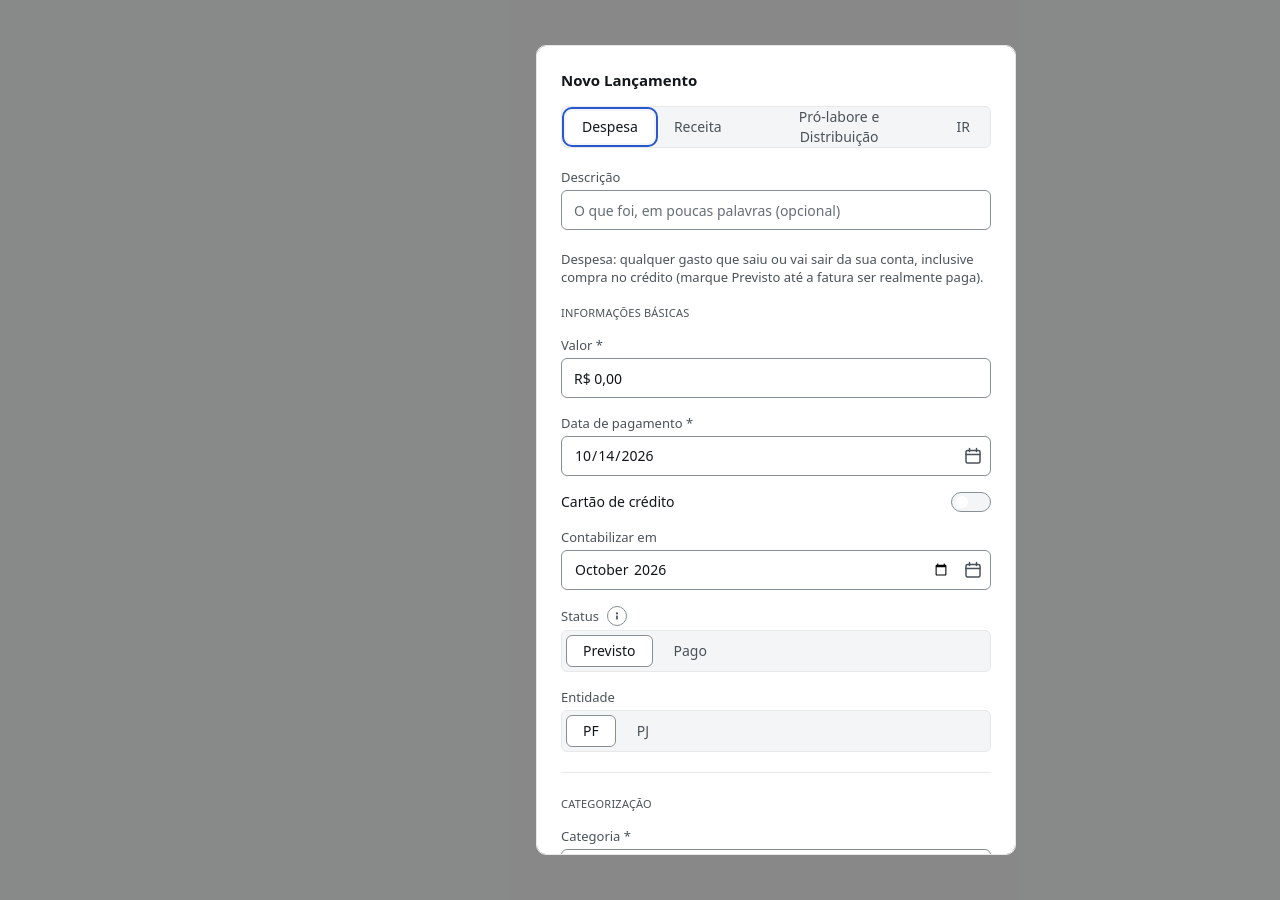
Scenario: Novo Lançamento — Pró-labore salva › 2026-10-01 — um botão de salvar só: com "Lançar outro em seguida" ligado, salva, limpa e continua no formulário, e a opção fica ligada
Click the tab "Pró-labore e Distribuição".
click(839, 127)  # box [742,111,936,143]
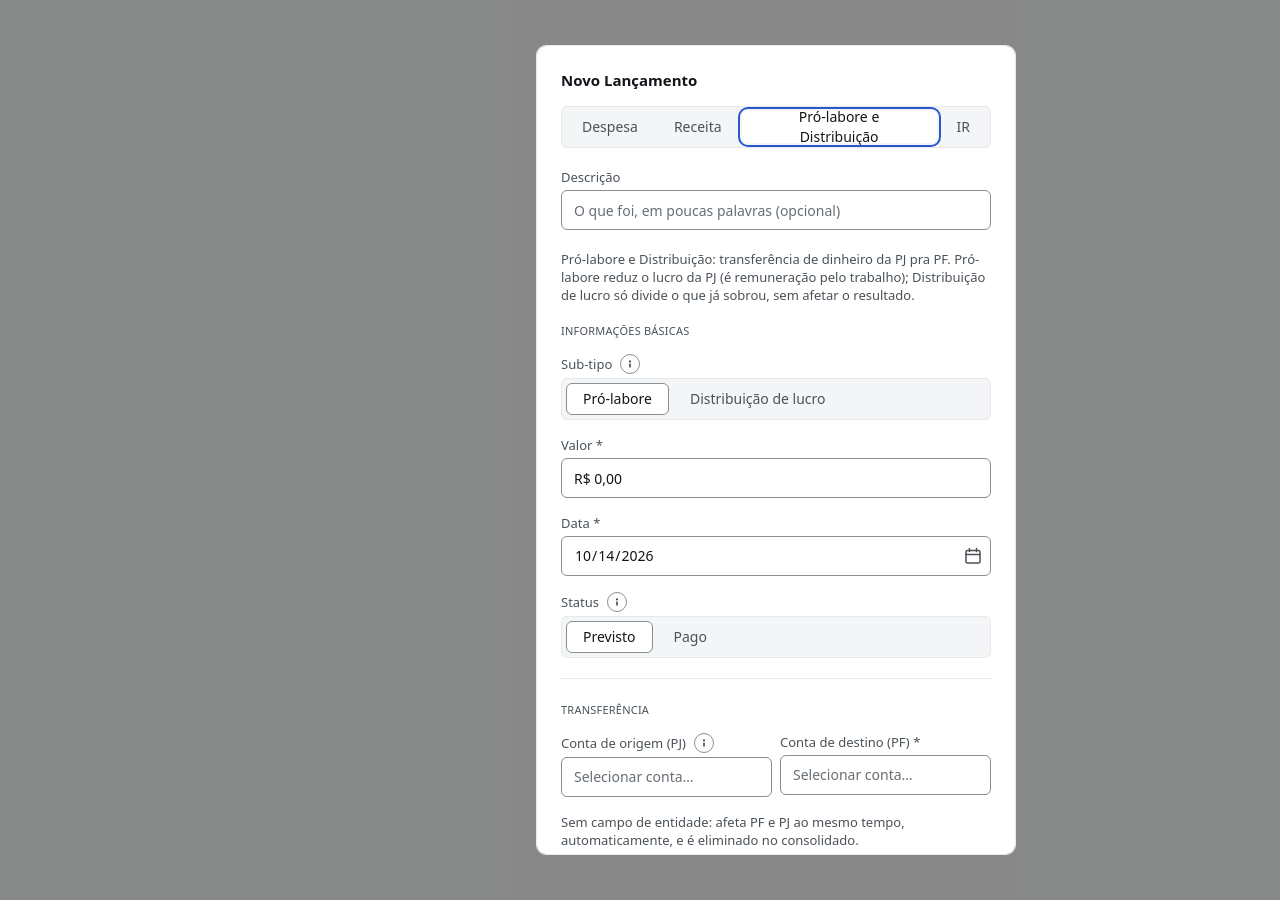
Type "Pró-labore sintético" into the field labelled "Descrição".
click(776, 210); type("Pró-labore sintético")  # box [561,190,991,230]
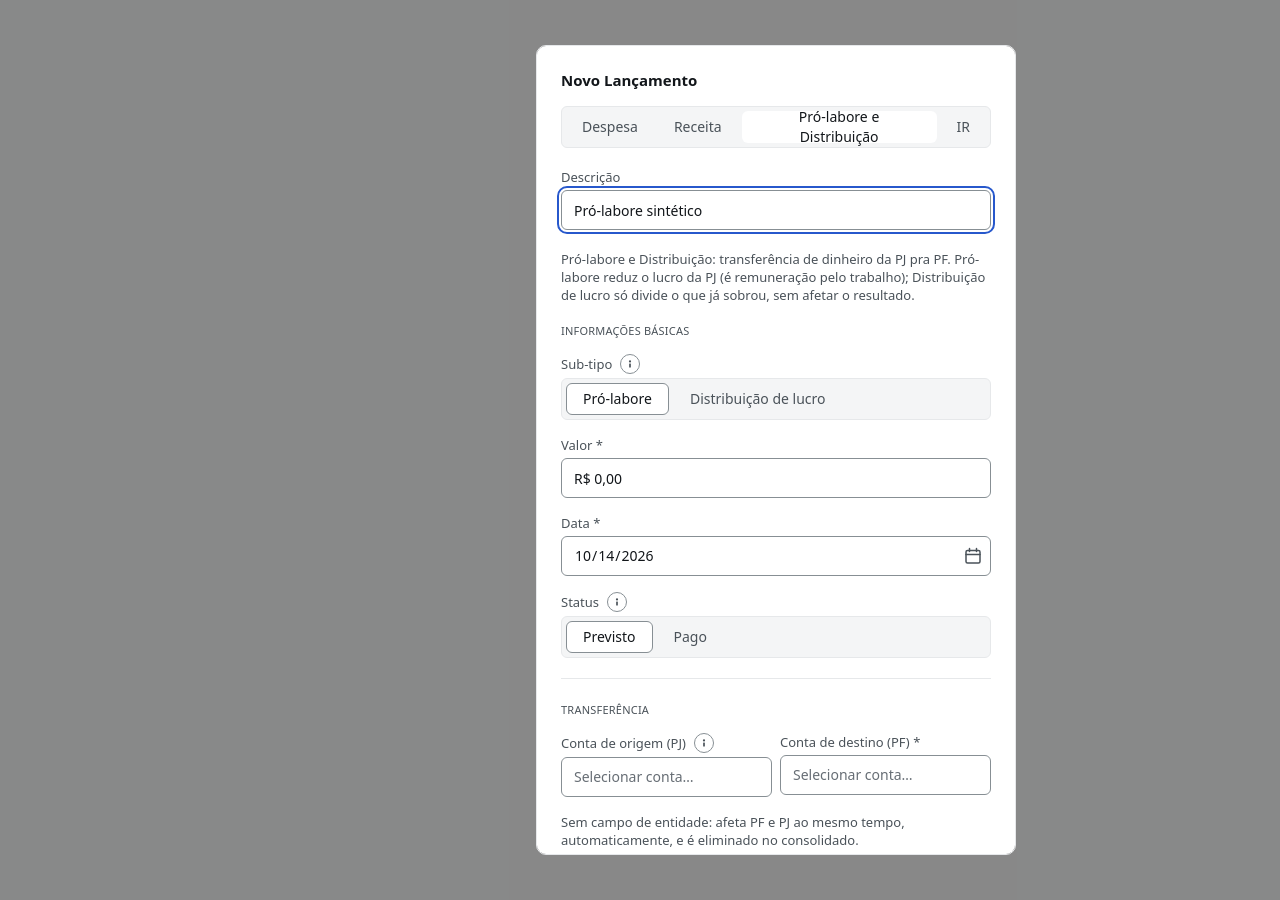
Click the dropdown named "Conta de destino".
click(886, 775)  # box [780,755,991,795]
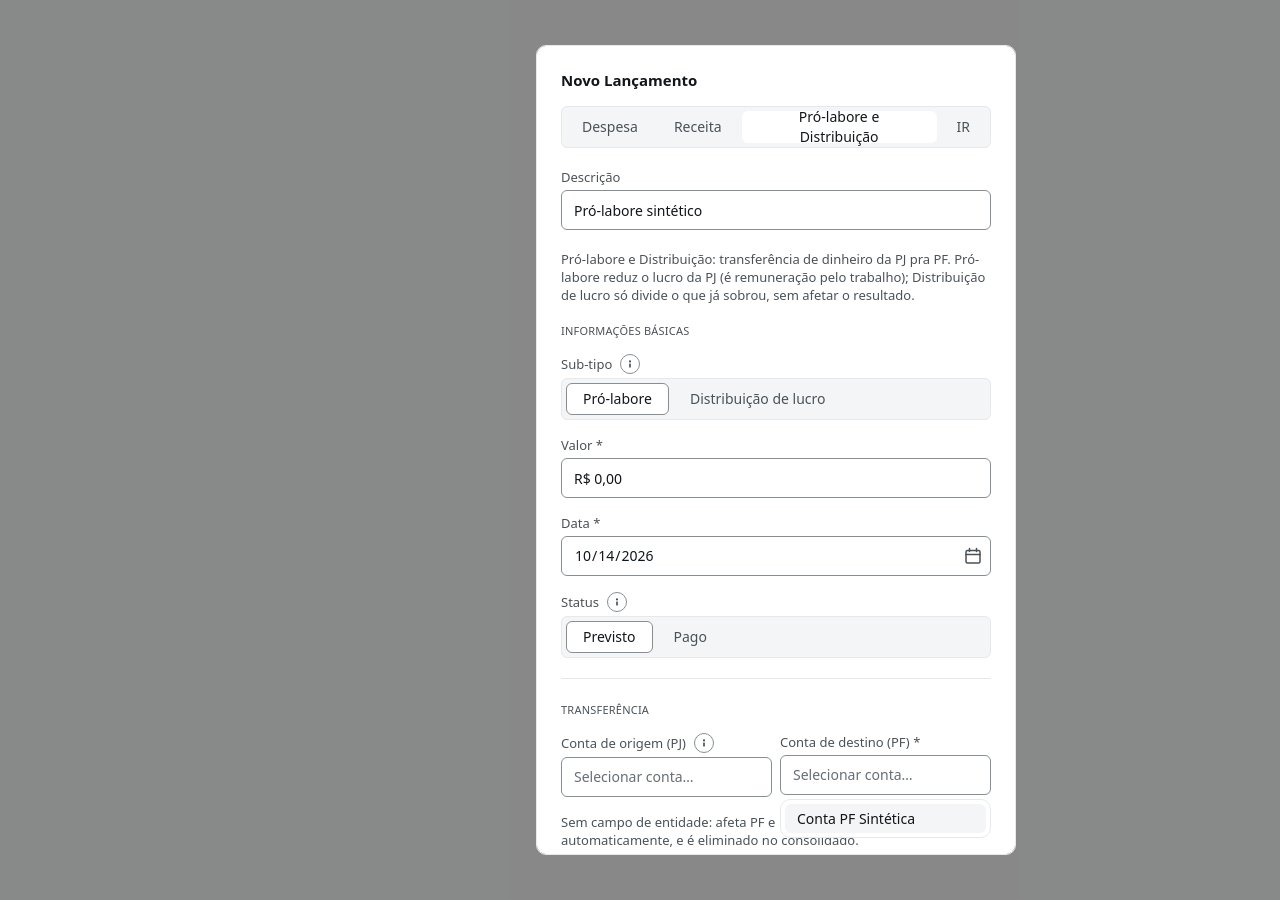
Click the option "Conta PF Sintética".
click(886, 818)  # box [785,804,986,833]
(page scrolled)
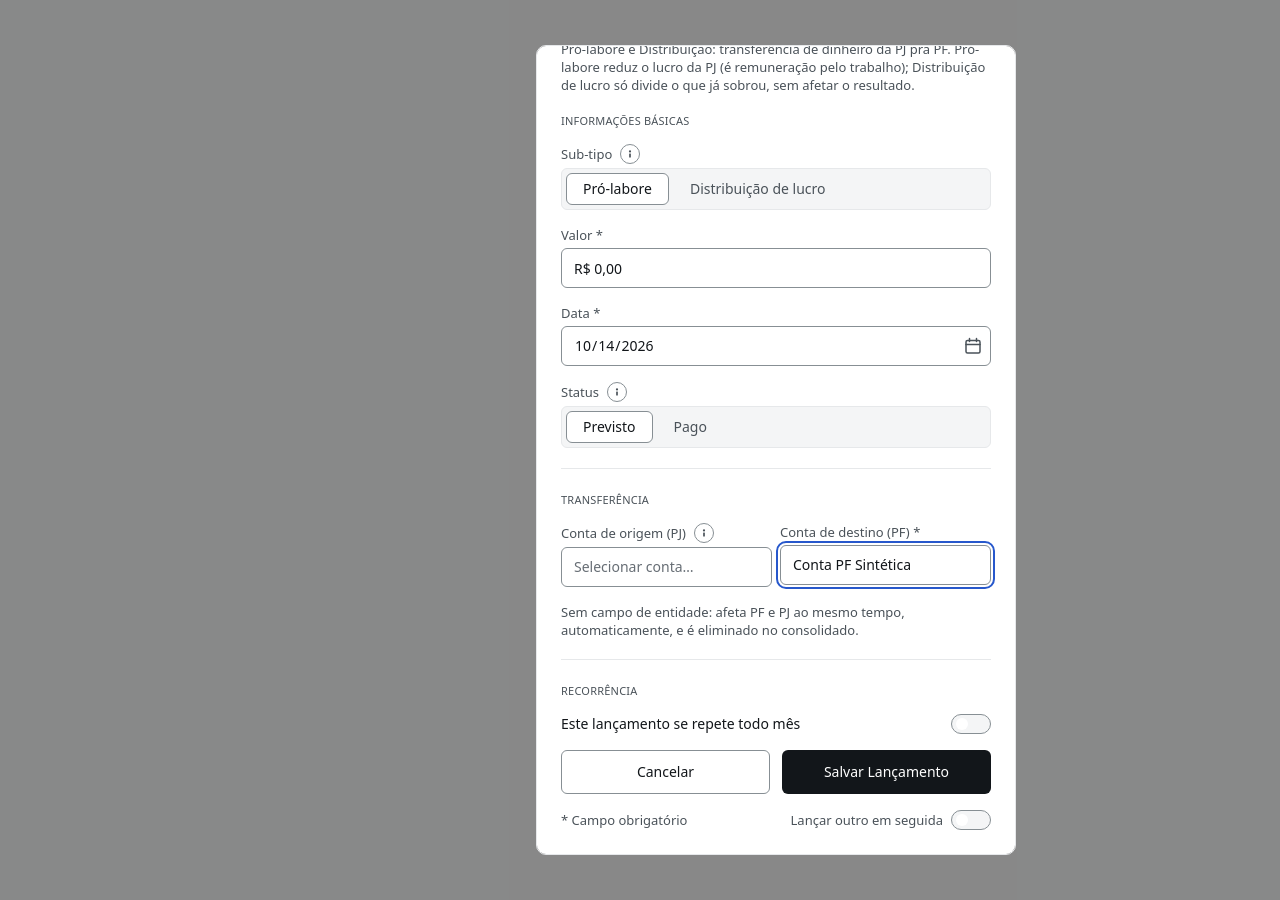
Click the switch named "Lançar outro em seguida" next to "Lançar outro em seguida".
click(971, 820)  # box [951,810,991,830]
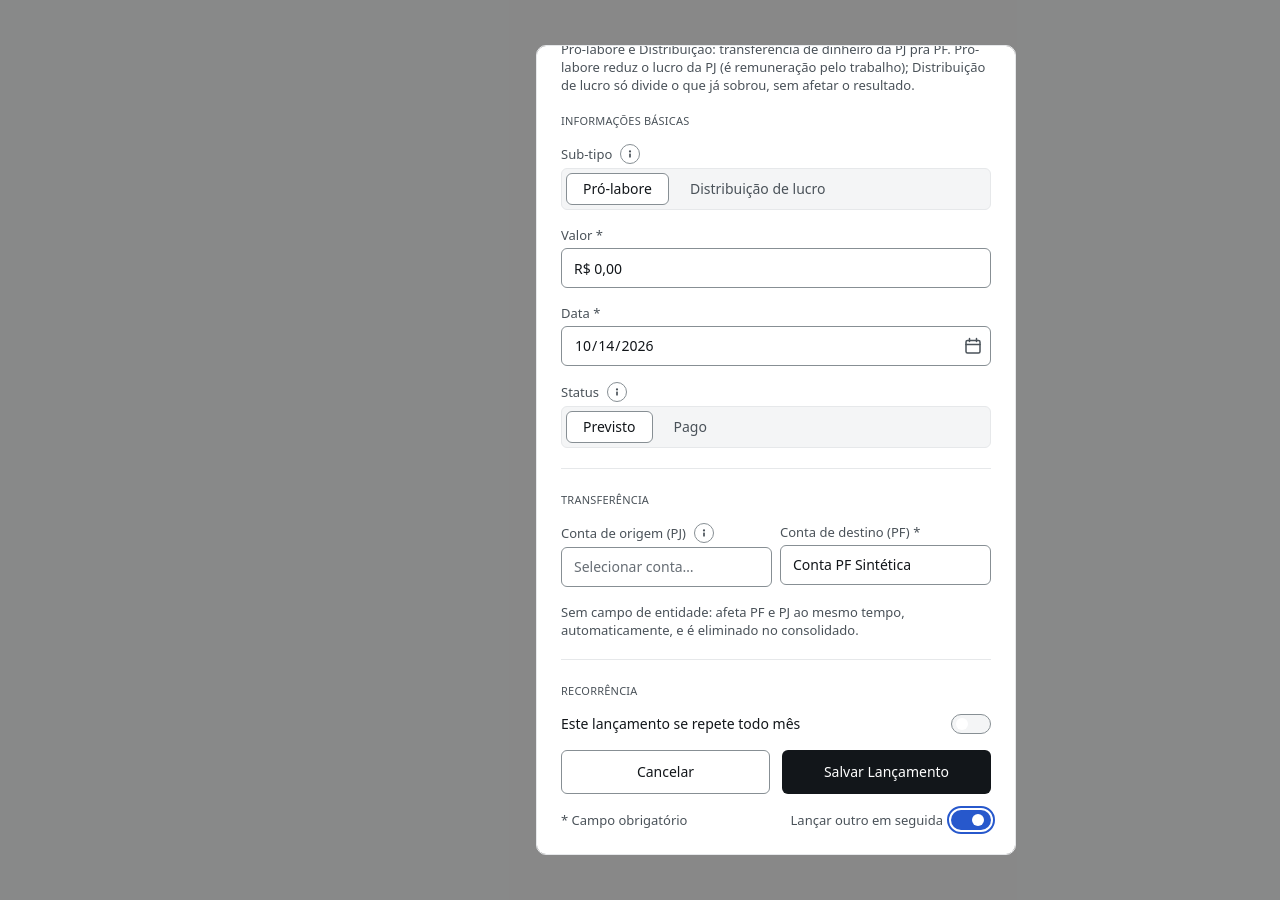
Click the button "Salvar Lançamento".
click(886, 772)  # box [782,750,991,794]
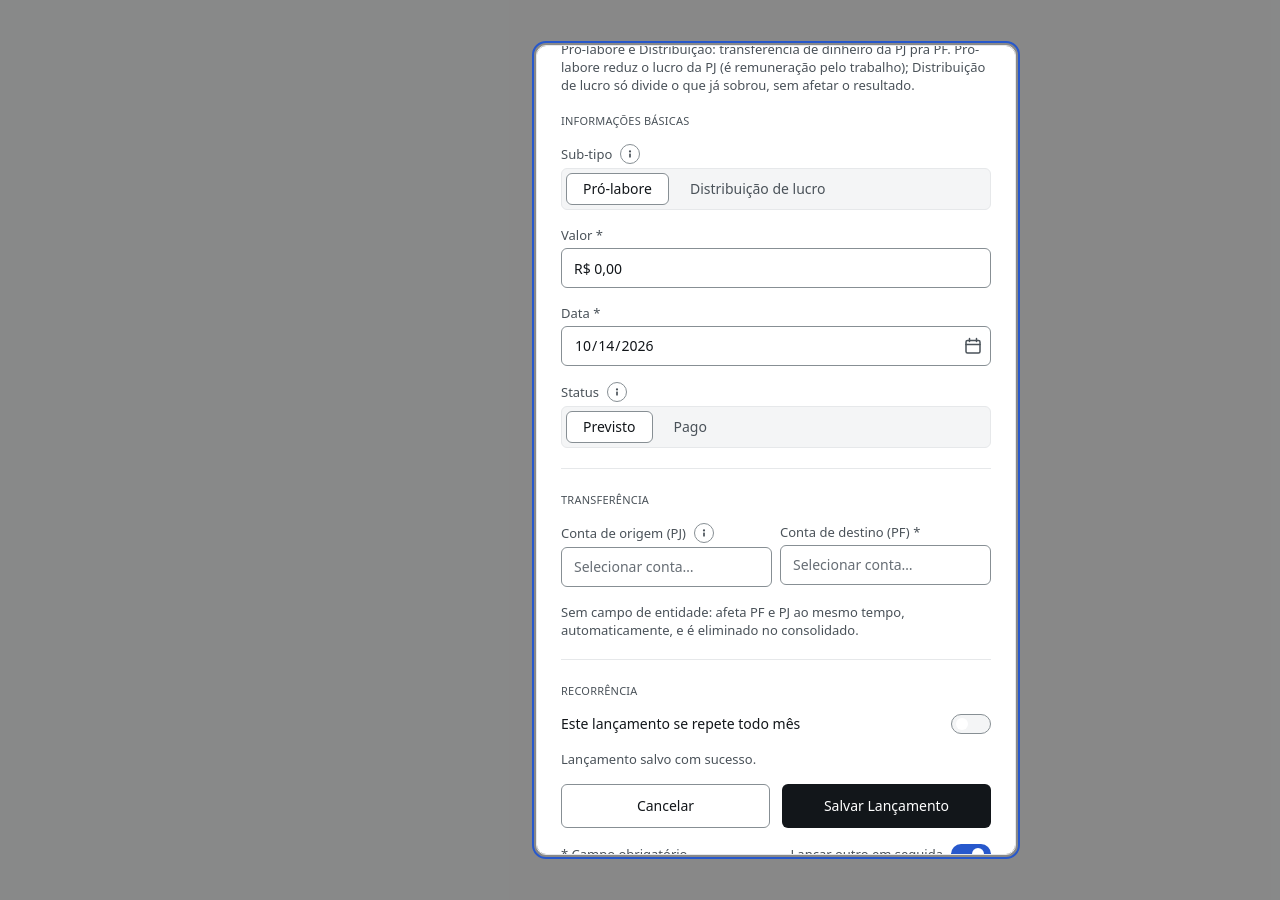
Expected: the message reads "Lançamento salvo com sucesso.", [561,750,756,768]
